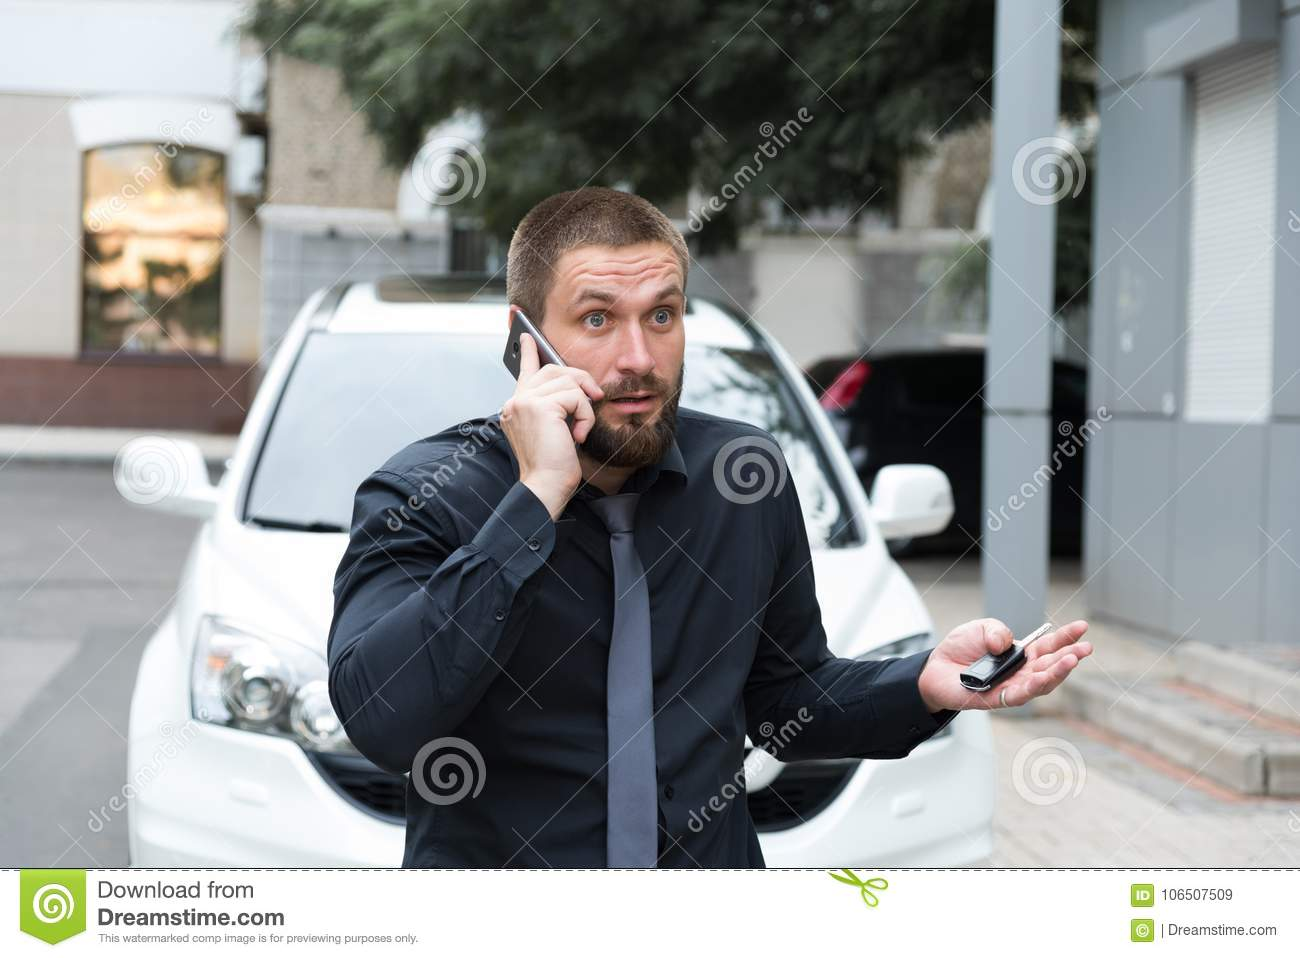phone: (503, 310, 592, 436)
talk: (500, 277, 684, 502)
